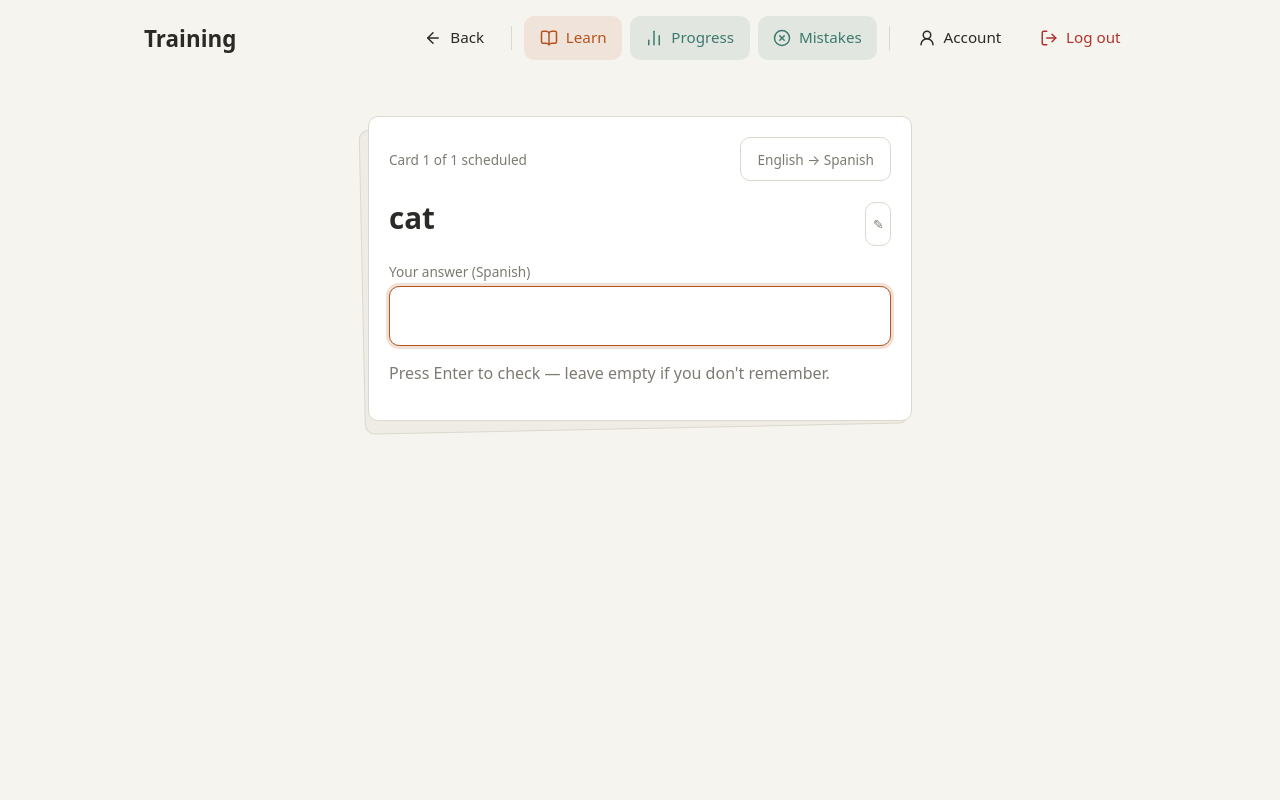
it: TrainPage Adopt › shows a visible error when adopting a non-duplicate suggestion fails
The width and height of the screenshot is (1280, 800).
Step 1. Type "perro" into the text box labelled "Your answer (Spanish)" → [640, 316], box [389,286,891,346]
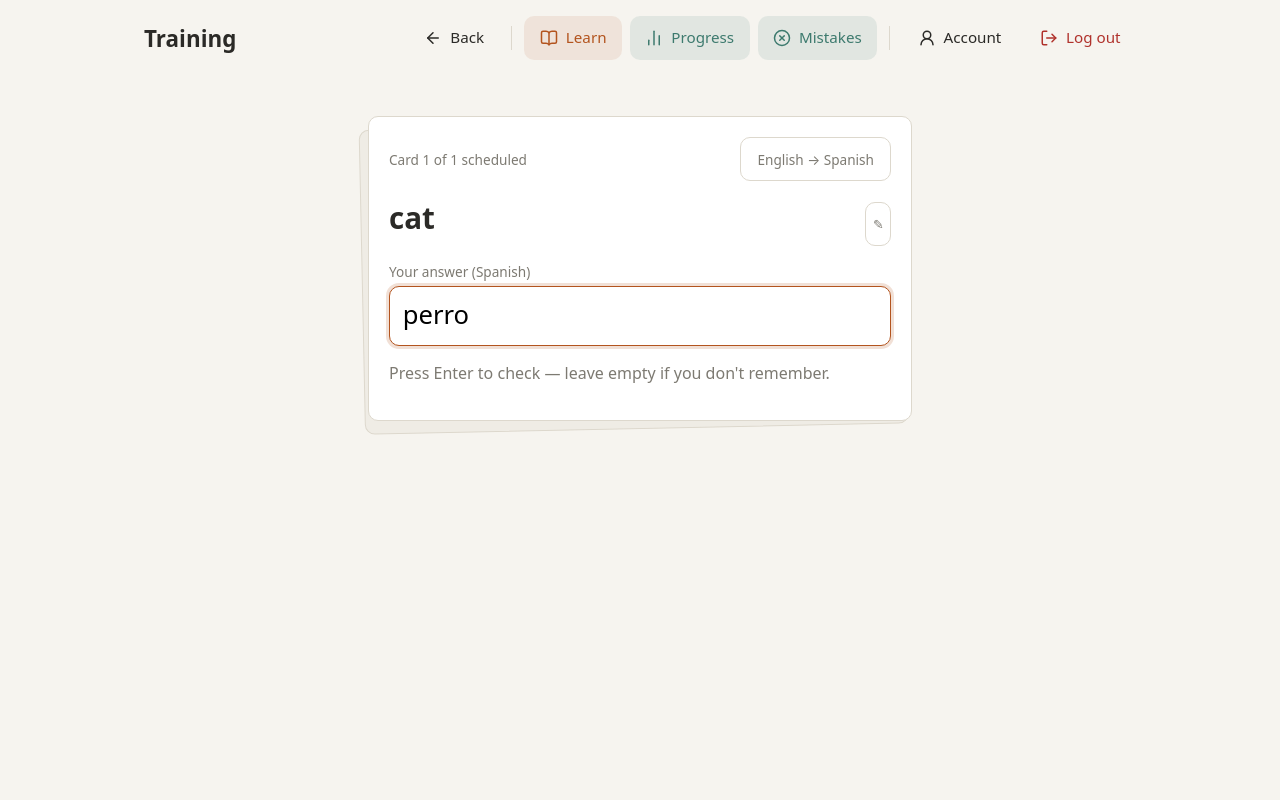
Step 2. Submit the form labelled "Your answer", box [389,262,891,400]
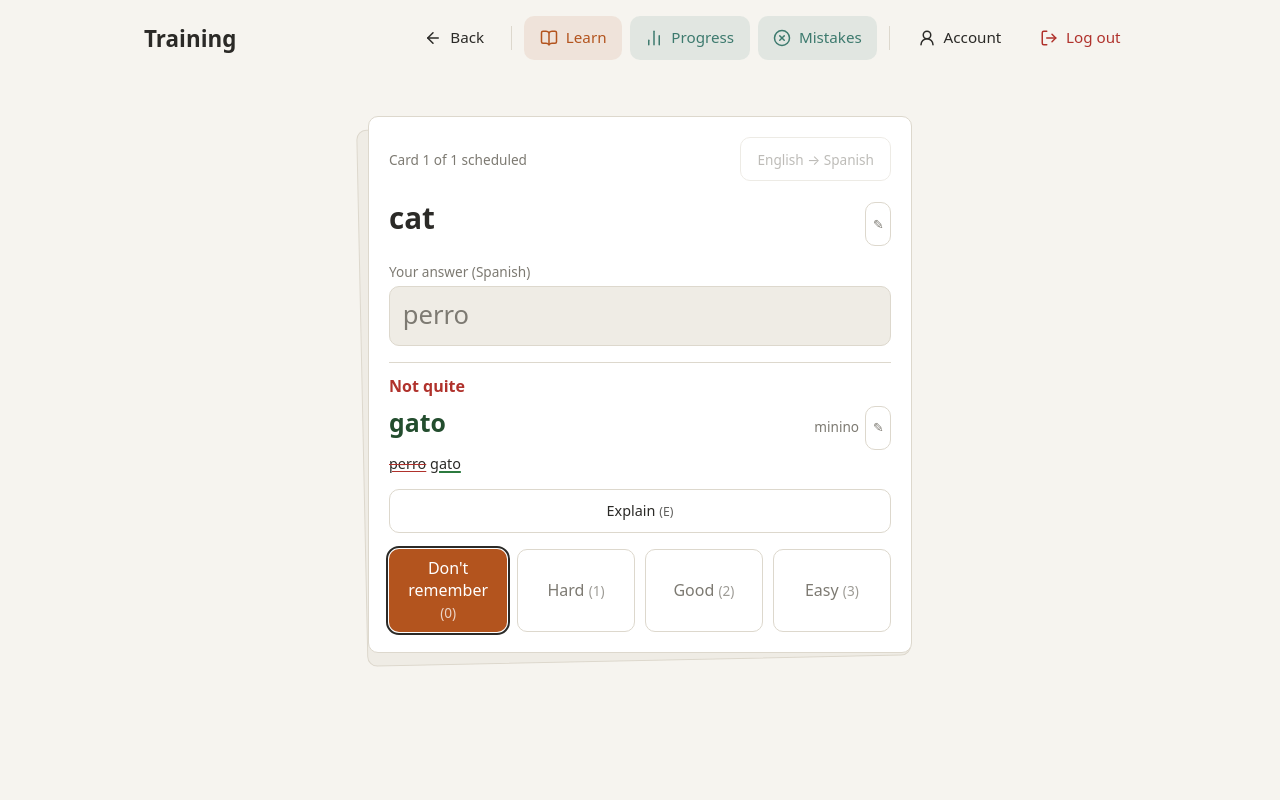
Step 3. Click the button "Explain (E)" → [640, 511], box [389,489,891,533]
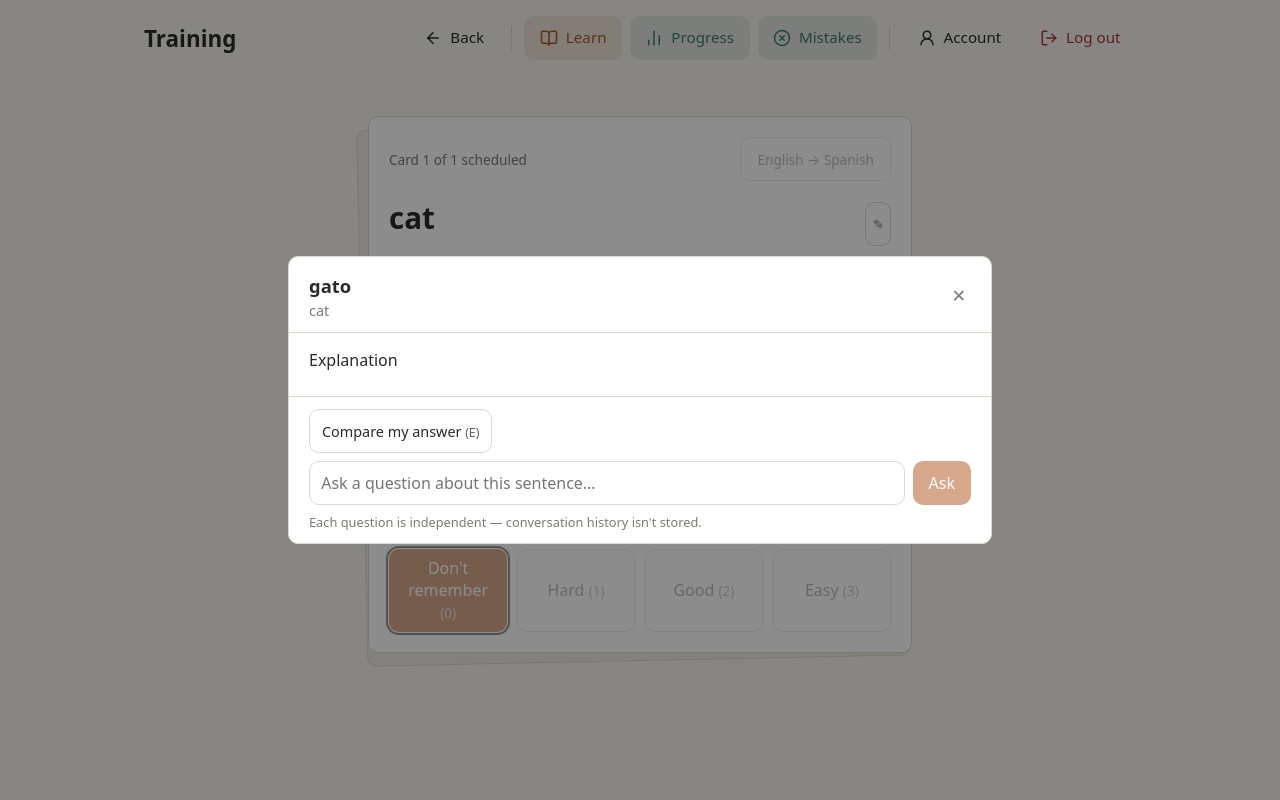
Expected: the text "Explanation" is shown, [309,349,398,371]
Step 4. Click the button "Compare my answer (E)" → [401, 431], box [309,409,492,453]
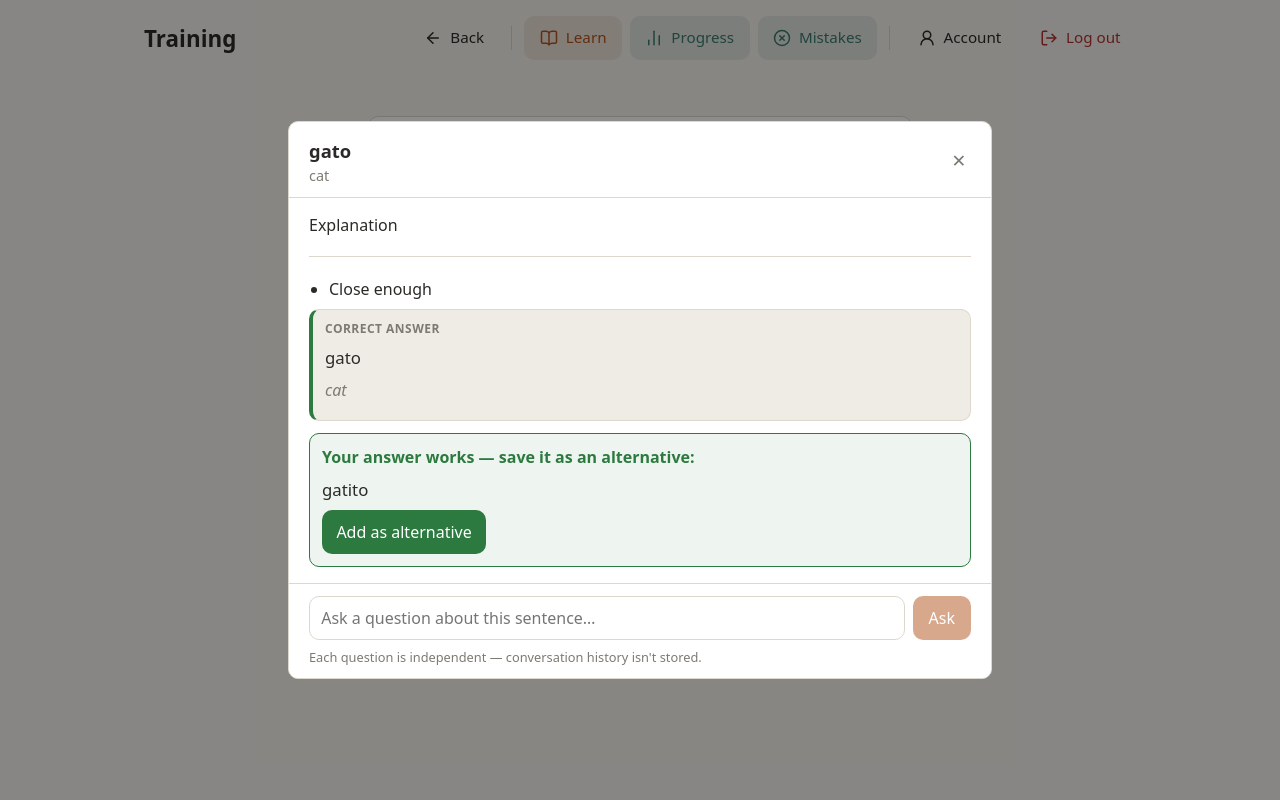
Step 5. Click the button "Add as alternative" → [404, 532], box [322,510,486,554]
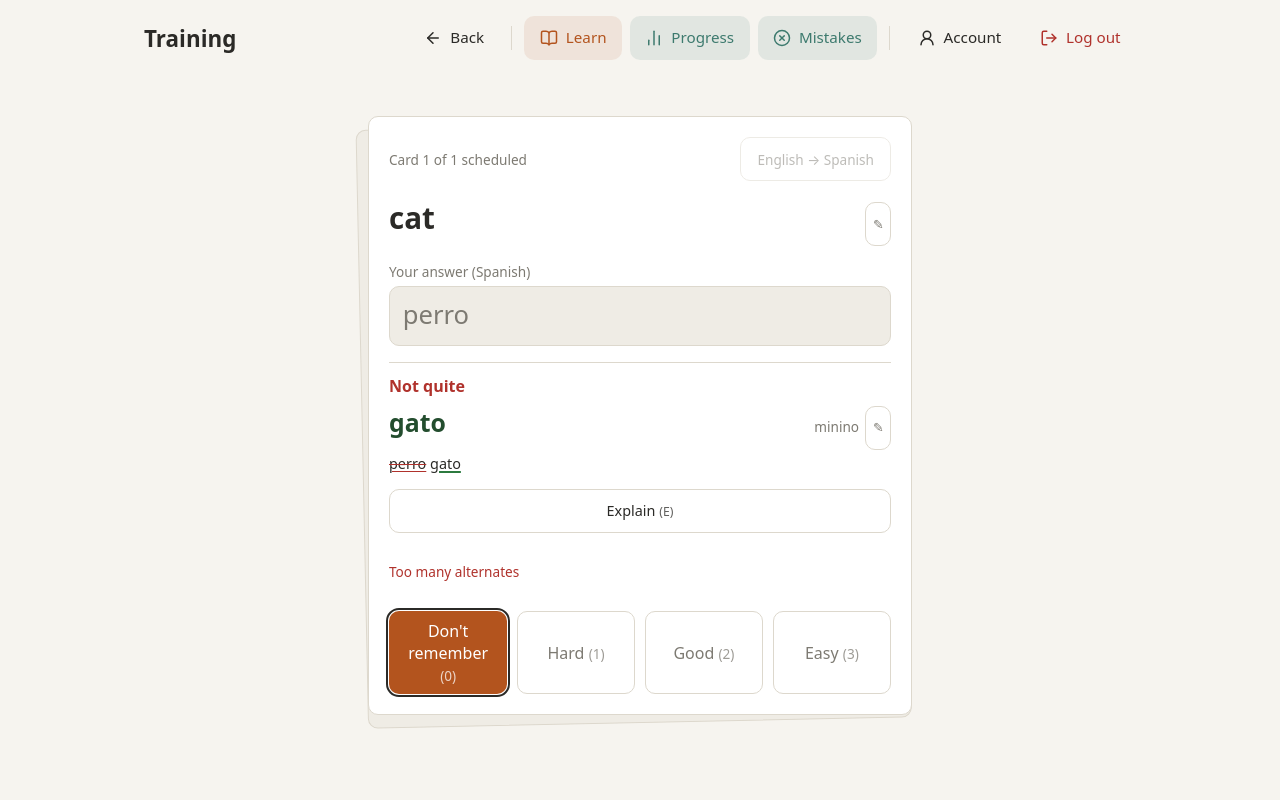
Expected: the text "Too many alternates" is shown, [389,562,519,581]
